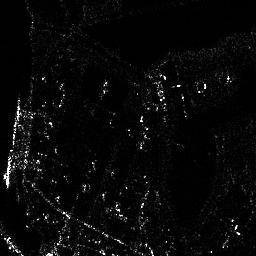ship: (11, 106, 21, 143), (2, 155, 13, 188)
